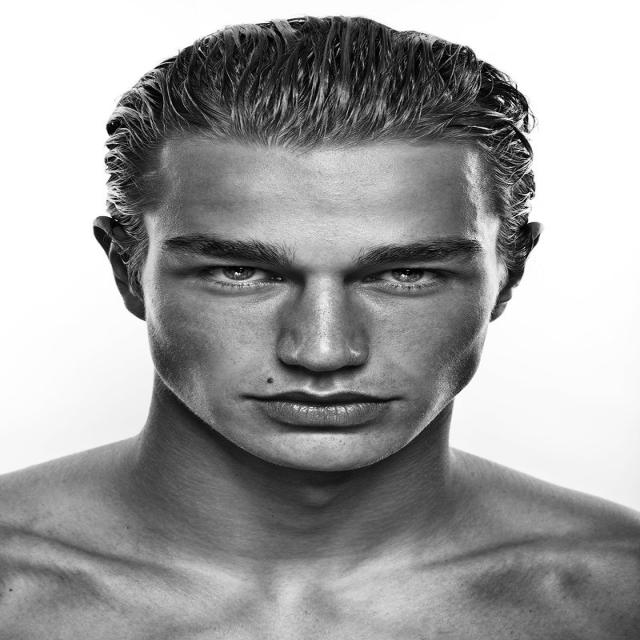front: (160, 186, 493, 442)
